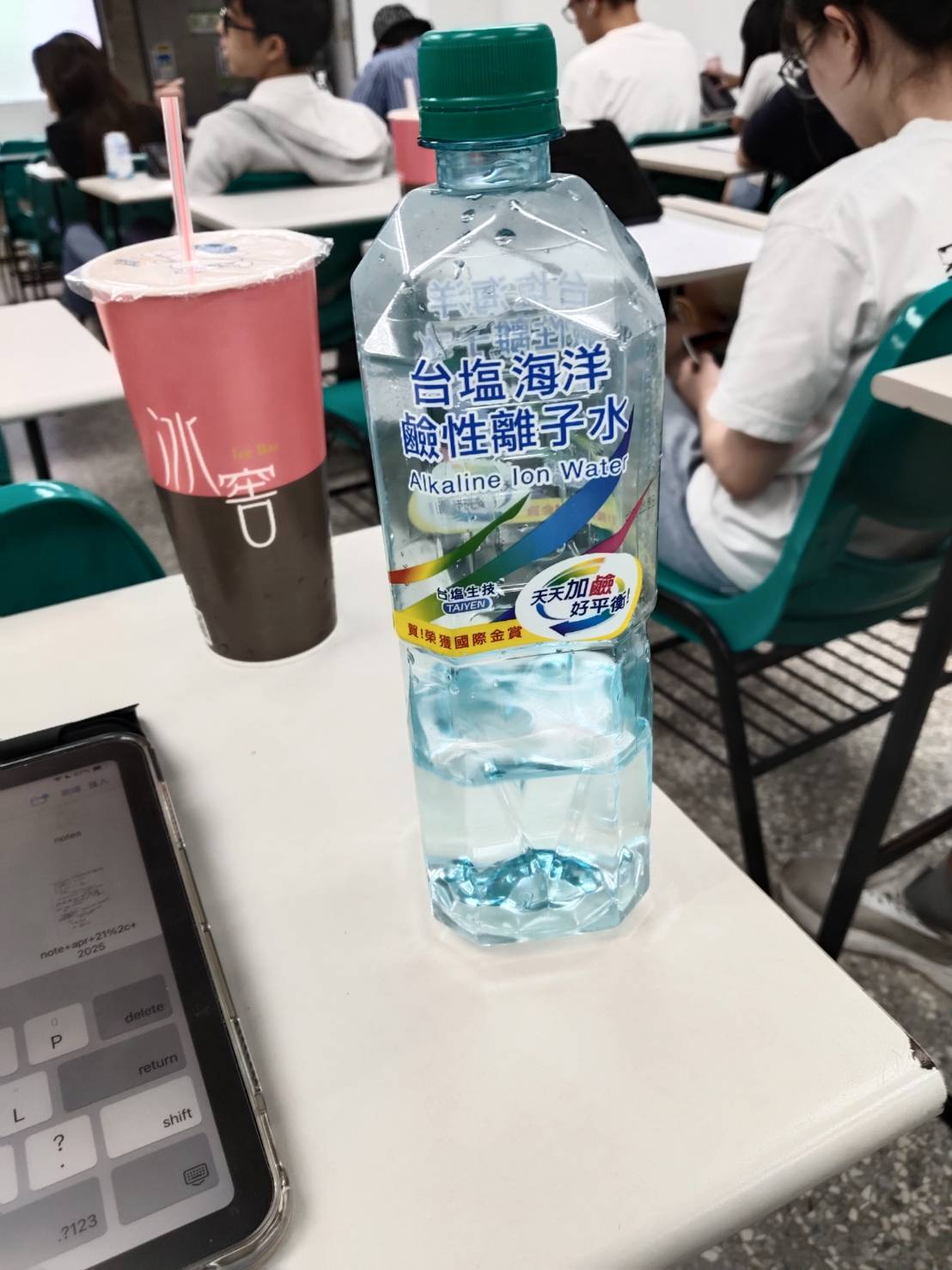paper: (117, 236, 330, 655)
plastic: (369, 48, 667, 958)
